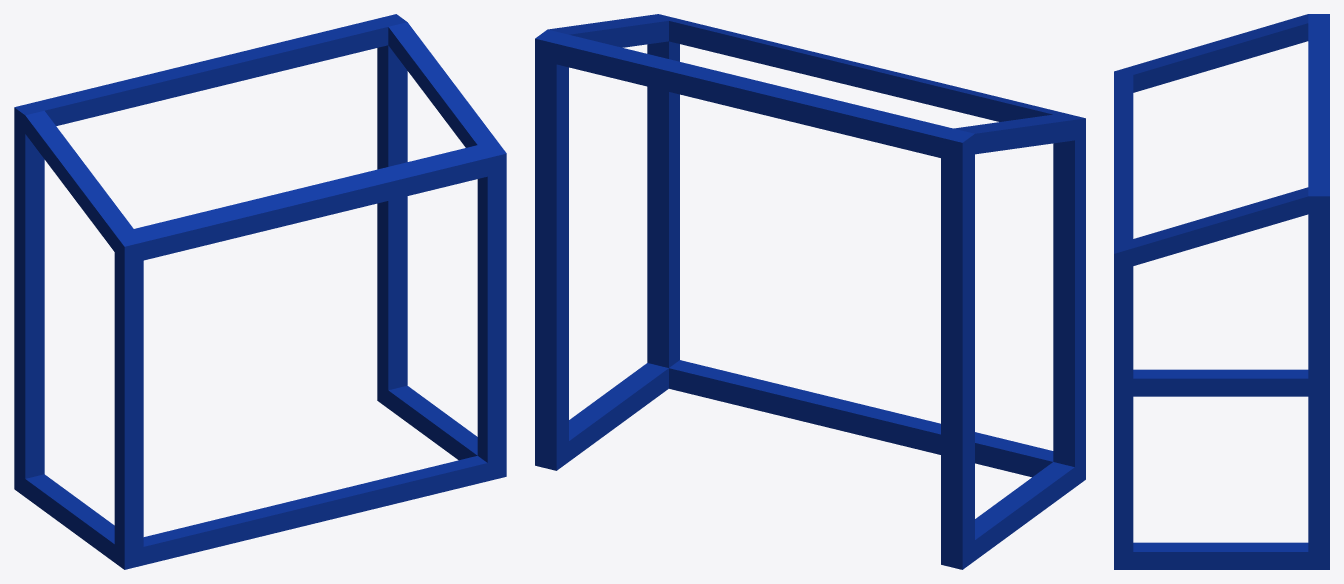
The model's file is But_bleu_v1_003.FBX.
3 views of the same model, side by side, from view 1: azimuth 30°, elevation 25°; view 2: azimuth 150°, elevation 25°; view 3: azimuth 270°, elevation 25° (orthographic). The views are drawn at different scales.
Visible parts, largest first — view 1: Cage002; view 2: Cage002; view 3: Cage002.
Boxes of the visible parts, x1=… form: Cage002: x1=14, y1=14, x2=506, y2=569; Cage002: x1=535, y1=14, x2=1085, y2=569; Cage002: x1=1114, y1=14, x2=1329, y2=569.
Bounding box in the file's own units: 199 × 190 × 99.31.
